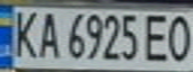2: (103, 10, 124, 62)
5: (118, 10, 145, 63)
6: (63, 10, 84, 60)
9: (81, 10, 106, 61)
A: (33, 9, 63, 60)
E: (142, 11, 172, 63)
K: (6, 8, 42, 60)
O: (163, 11, 193, 63)
